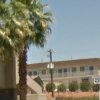Palm tree: (4, 2, 42, 100)
